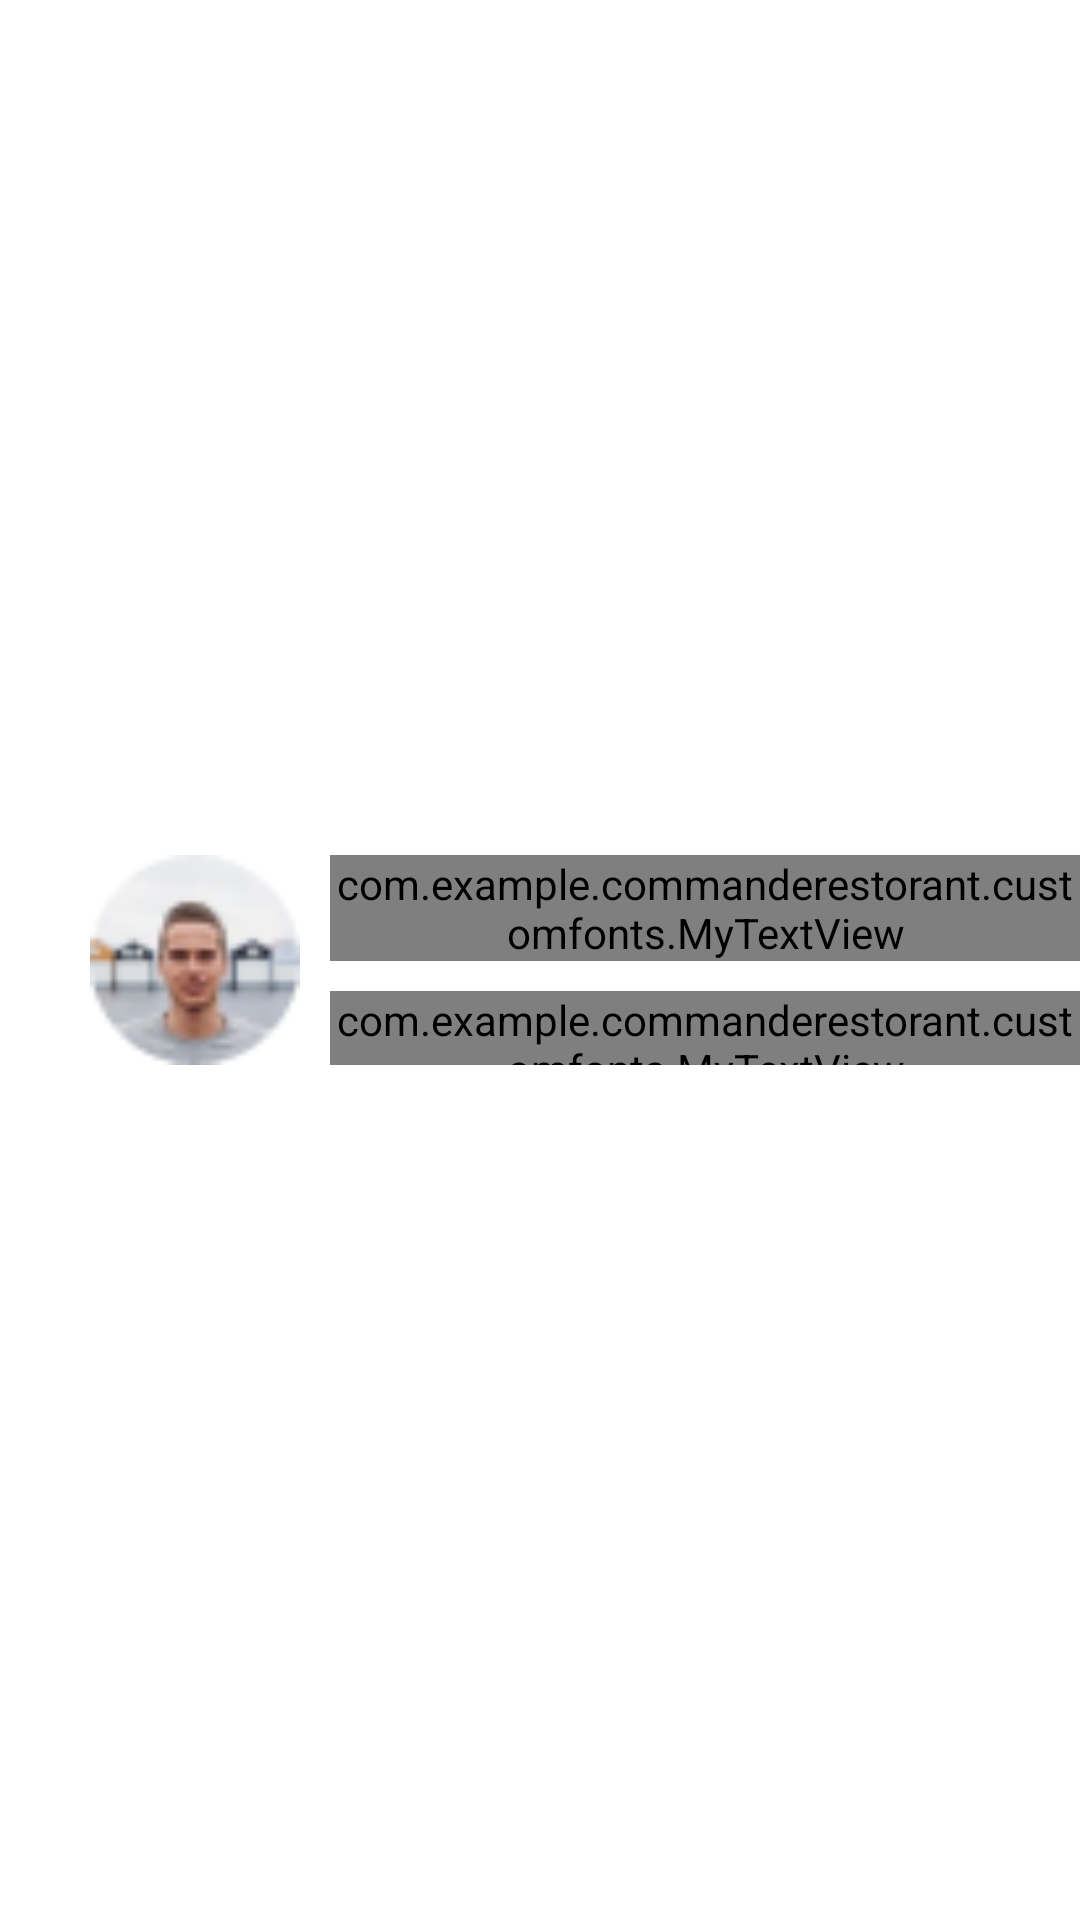

Point at icon controls on the screen. Image size 1080x1920, points as point (x, y).
person: point (195, 982)
